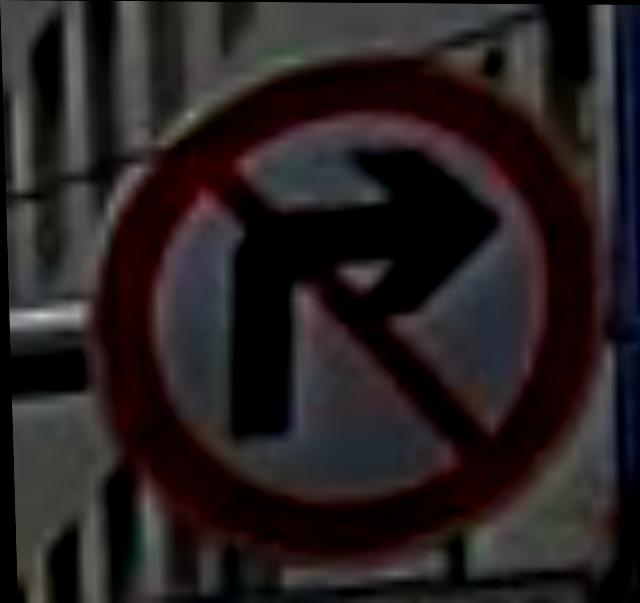not_turn_right: (63, 39, 586, 553)
